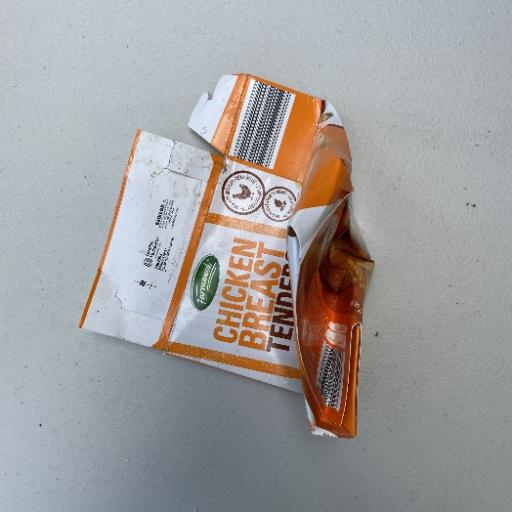Cardboard: (77, 71, 375, 440)
